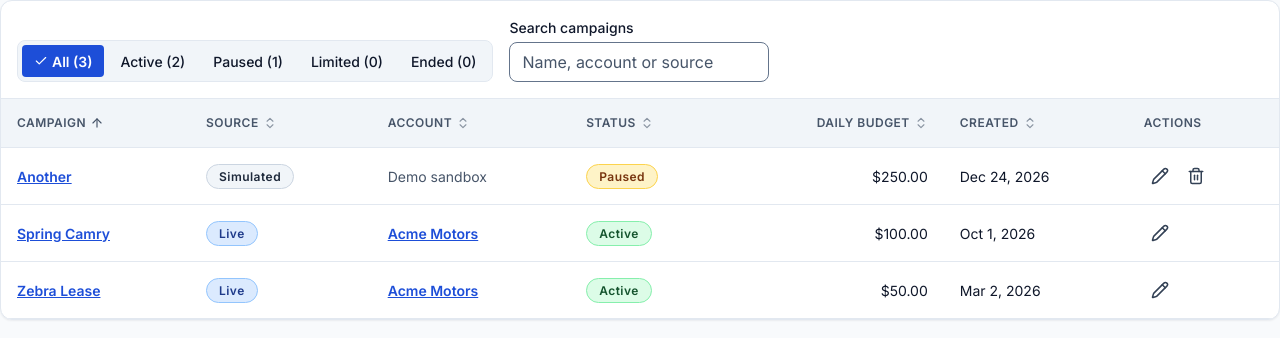
Scenario: CampaignTable › filters rows with the search box (also by source) and explains when nothing matches
The width and height of the screenshot is (1280, 338).
In the search field labelled "Search campaigns": (639, 62) [509,42,769,82], type "camry"
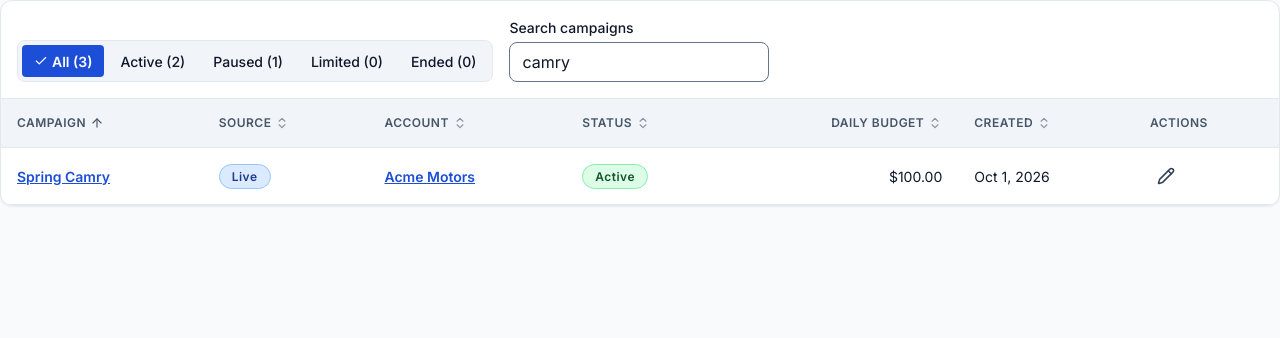
Replace the text in the search field labelled "Search campaigns" with "simulated": (639, 62) [509,42,769,82]
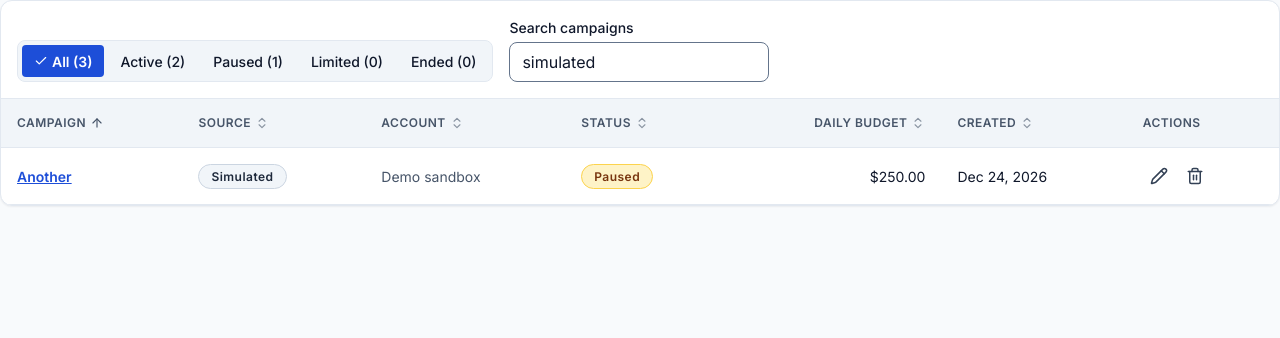
Replace the text in the search field labelled "Search campaigns" with "nothing like this": (639, 62) [509,42,769,82]
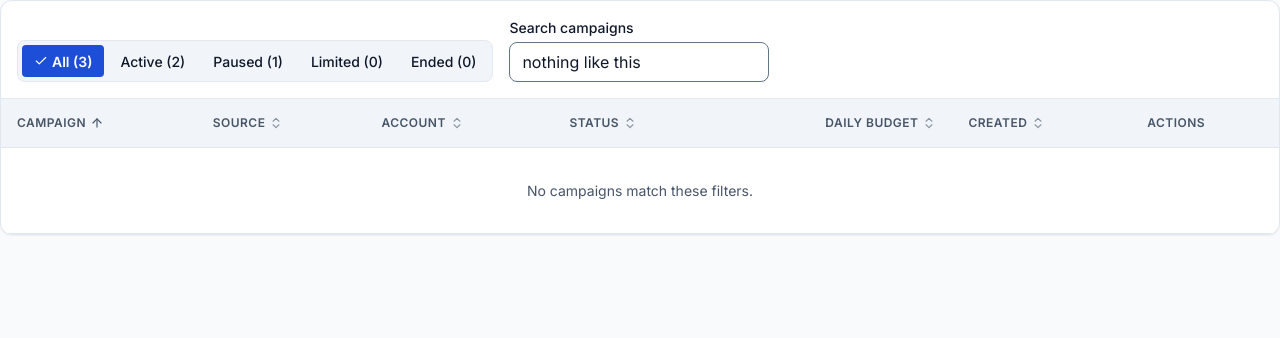
Check: the text "No campaigns match these filters" is shown, box [527,182,753,199]
